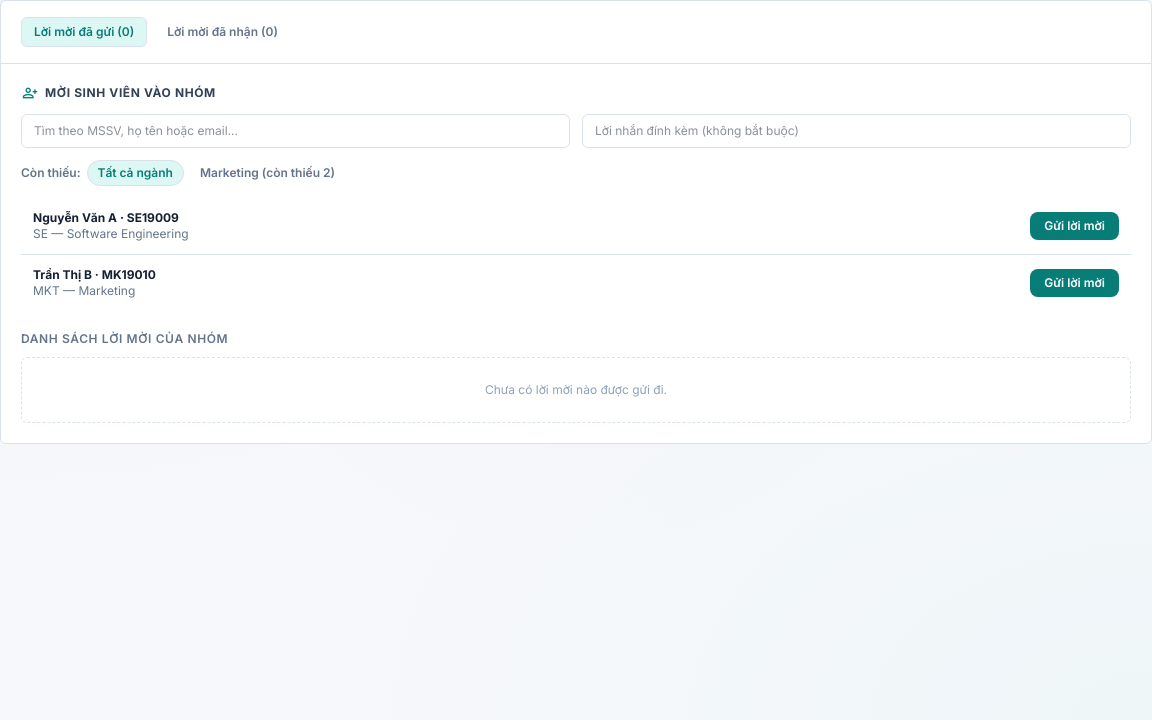
Test case: TeamInvitationsPanel › filters the current page of candidates by the selected unfilled major without changing the server query
The width and height of the screenshot is (1152, 720).
Check: the text "Nguyễn Văn A · SE19009" is shown, box x1=33 y1=210 x2=189 y2=226
Check: the text "Trần Thị B · MK19010" is shown, box x1=33 y1=267 x2=156 y2=283
What coordinates should you click on to do the following:
click the button "Marketing (còn thiếu 2)"
I would click on:
 (267, 173)
Its box is x1=190 y1=161 x2=345 y2=185.
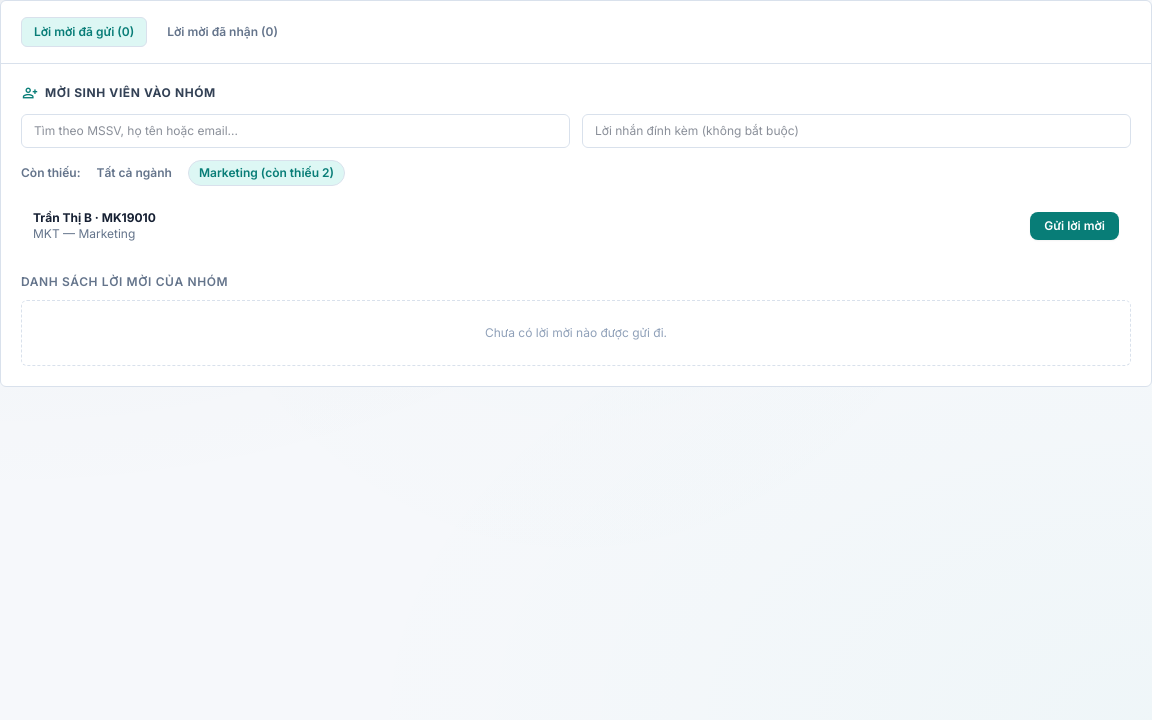
Check: the text "Trần Thị B · MK19010" is shown, box x1=33 y1=210 x2=156 y2=226
Check: the text "Nguyễn Văn A" is gone
What coordinates should you click on to do the following:
click the button "Tất cả ngành"
I would click on:
 (134, 173)
Its box is x1=86 y1=161 x2=182 y2=185.
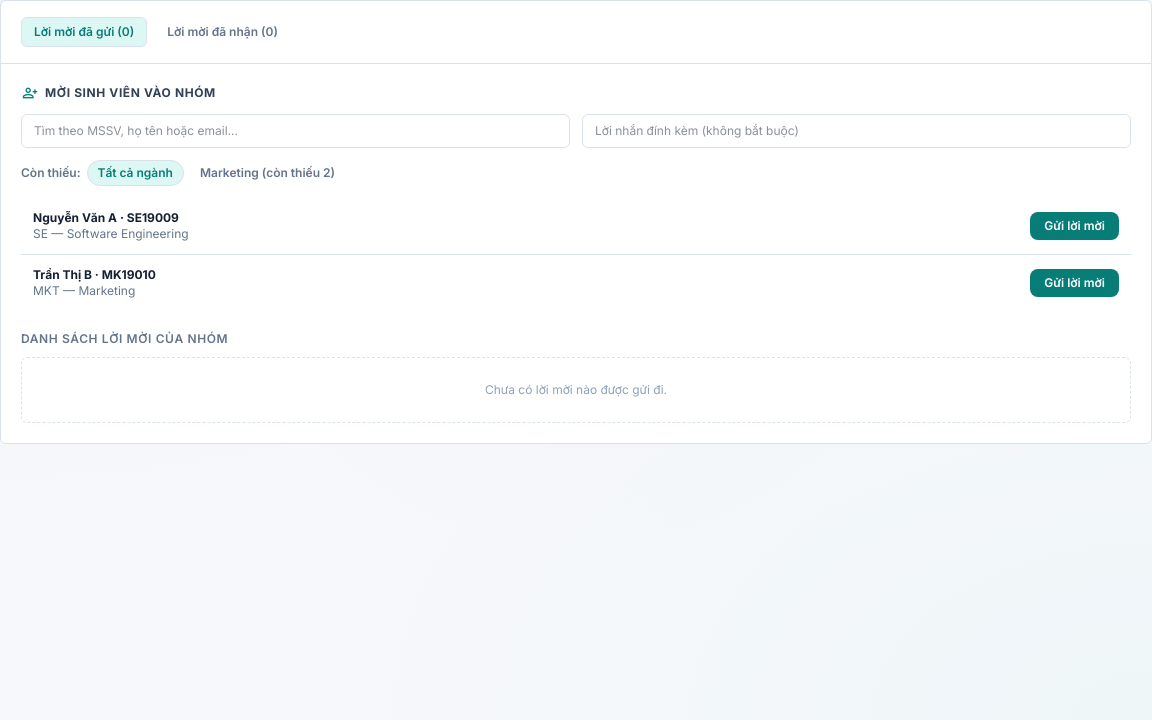
Check: the text "Nguyễn Văn A · SE19009" is shown, box x1=33 y1=210 x2=189 y2=226
